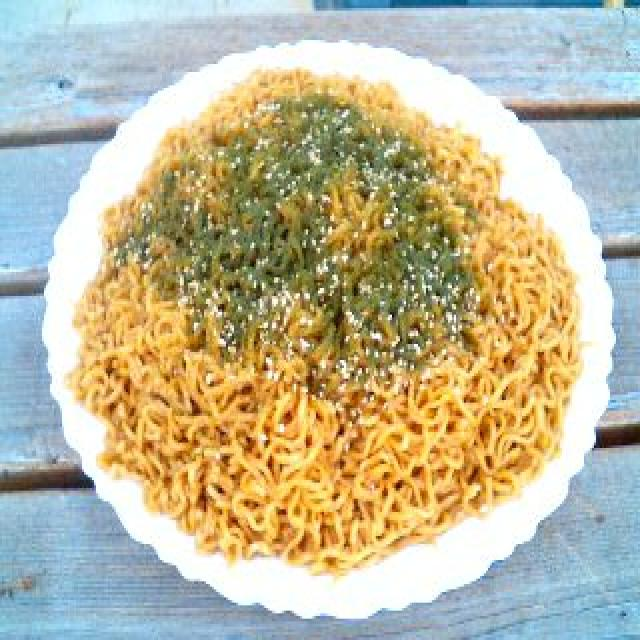面条主食: (44, 37, 588, 614)
